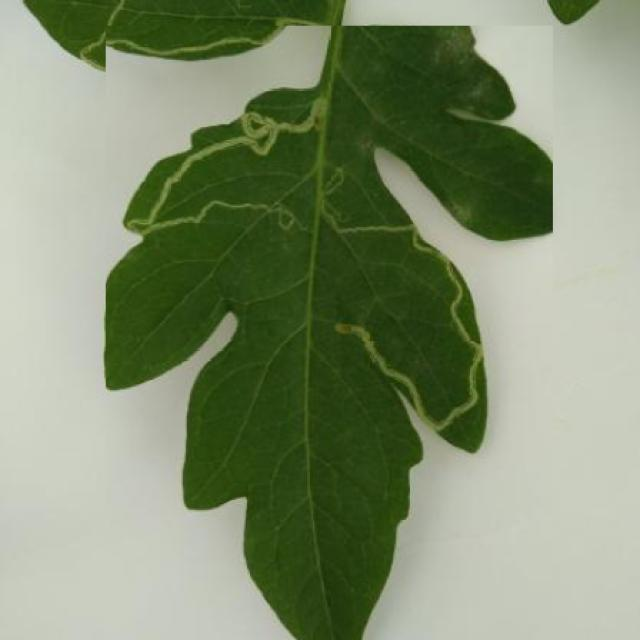Leaf Miner: (106, 25, 553, 640)
